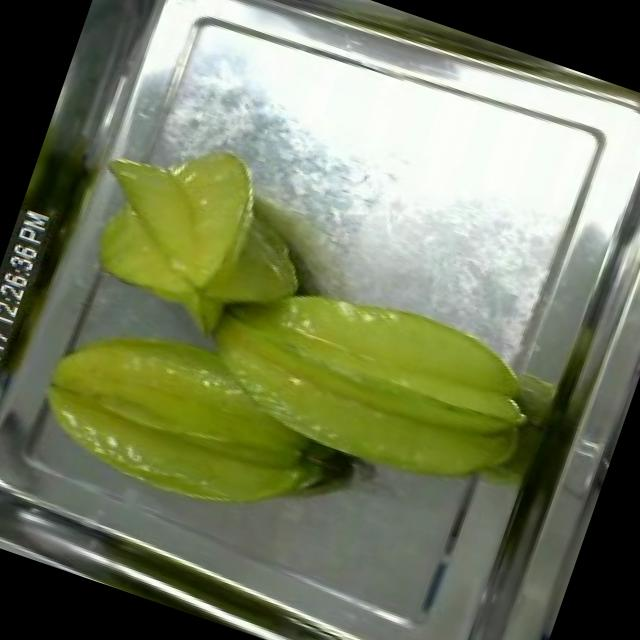fruit: (170, 234, 569, 528), (12, 286, 370, 554), (56, 104, 348, 366)
